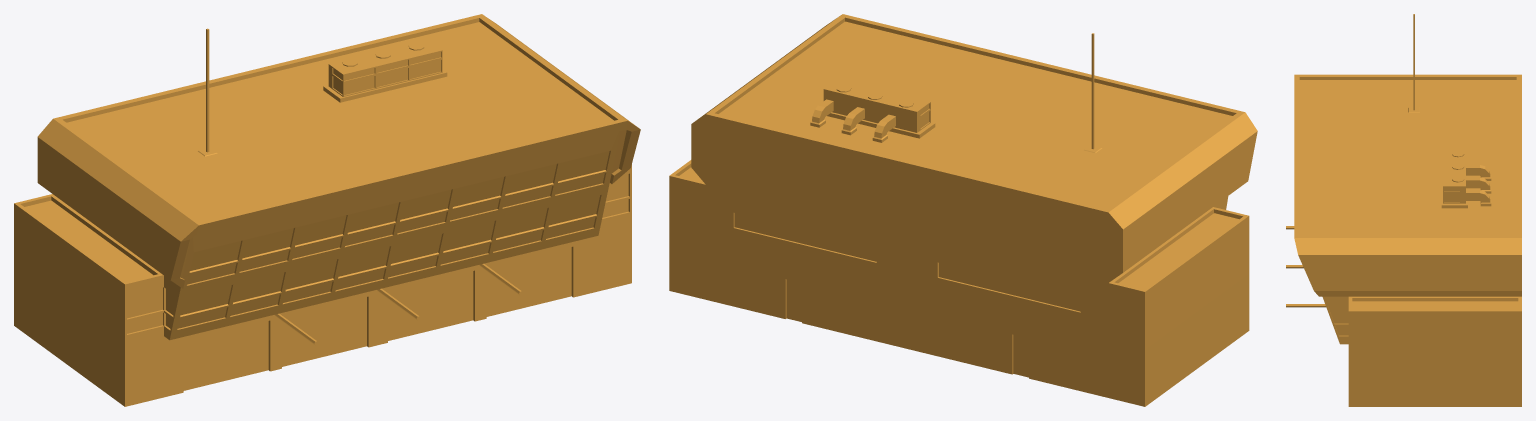
Rendered from building-race-track.fbx.
3 renders of one model, left to right at view 1: azimuth 30°, elevation 25°; view 2: azimuth 150°, elevation 25°; view 3: azimuth 270°, elevation 25°, orthographic. The views are drawn at different scales.
Visible parts, largest first — view 1: building-race-track; view 2: building-race-track; view 3: building-race-track.
Part boxes in pixels (x1=…): building-race-track: x1=14, y1=14, x2=640, y2=406; building-race-track: x1=669, y1=14, x2=1257, y2=406; building-race-track: x1=1286, y1=14, x2=1521, y2=406.
Size of the model in its own units: 25.98 by 15.51 by 13.41.
